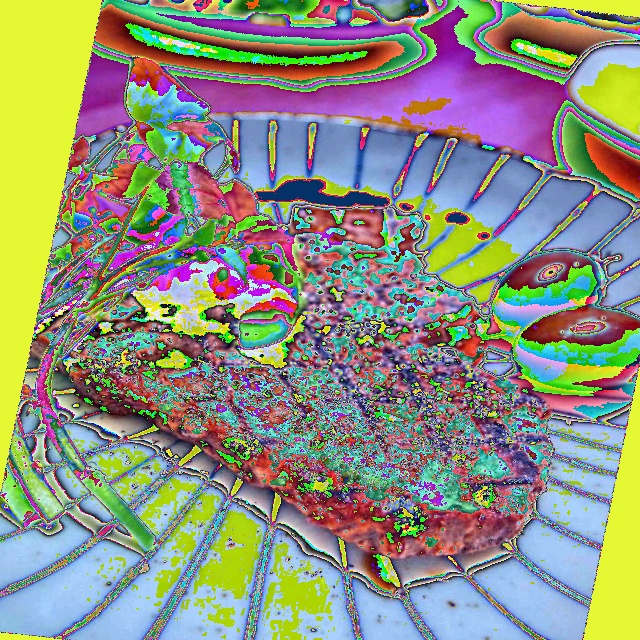background: (22, 55, 639, 559), (1, 114, 66, 527), (162, 0, 385, 24)
